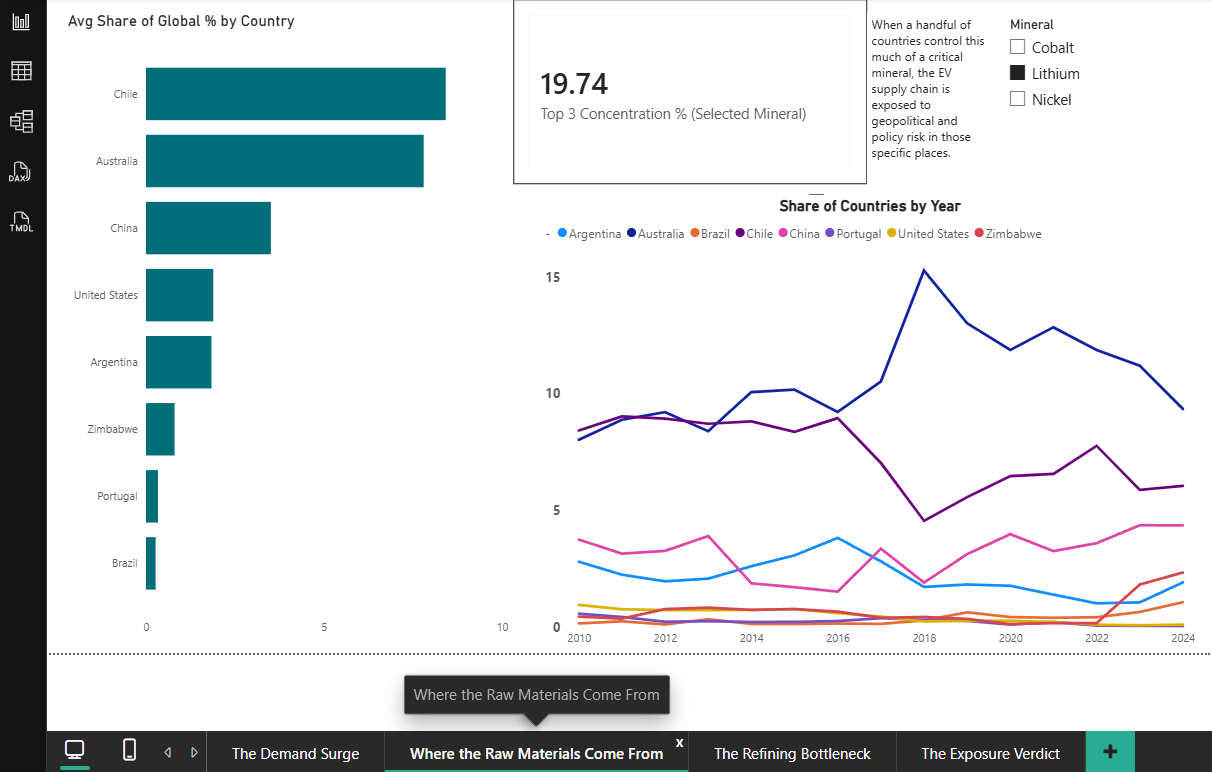

The dashboard page shown, as its layout file describes it:
{"tool":"powerbi","page":{"name":"Where the Raw Materials Come From","canvas":[1280,720],"ordinal":1},"visuals":[{"type":"clusteredBarChart","fields":{"Y":["MineralShare_Final.Avg Share of Global %"],"Category":["MineralShare_Final.Country"]},"box":[17.8,15.1,494,694.3],"z":0},{"type":"slicer","fields":{"Values":["MineralShare_Final.Mineral"]},"box":[1044.3,15.1,236,116.6],"z":1000},{"type":"cardVisual","fields":{"Data":["MineralShare_Final.Top 3 Concentration % (Selected Mineral)"]},"box":[511.8,1.4,388.3,203.1],"z":2000},{"type":"textbox","box":[900.2,15.1,134.5,203.1],"z":3000},{"type":"lineChart","title":"Share of Countries by Year","fields":{"Category":["Years.year"],"Y":["Sum(MineralShare_Final.Share_of_Global_Pct)"],"Series":["MineralShare_Final.Country"]},"box":[542,218.2,723.2,502.2],"z":4000}]}

Visuals, with their boxes on the page's 1280x720 design canvas (x1, y1, x2, y2). These are canvas units, not pixel positions in the 1212x772 screenshot, which may show the page scaled, cropped or inside an application window:
clusteredBarChart - MineralShare_Final.Avg Share of Global % x MineralShare_Final.Country: box=[18, 15, 512, 709]
slicer - MineralShare_Final.Mineral: box=[1044, 15, 1280, 132]
cardVisual - MineralShare_Final.Top 3 Concentration % (Selected Mineral): box=[512, 1, 900, 204]
textbox: box=[900, 15, 1035, 218]
"Share of Countries by Year" lineChart: box=[542, 218, 1265, 720]
